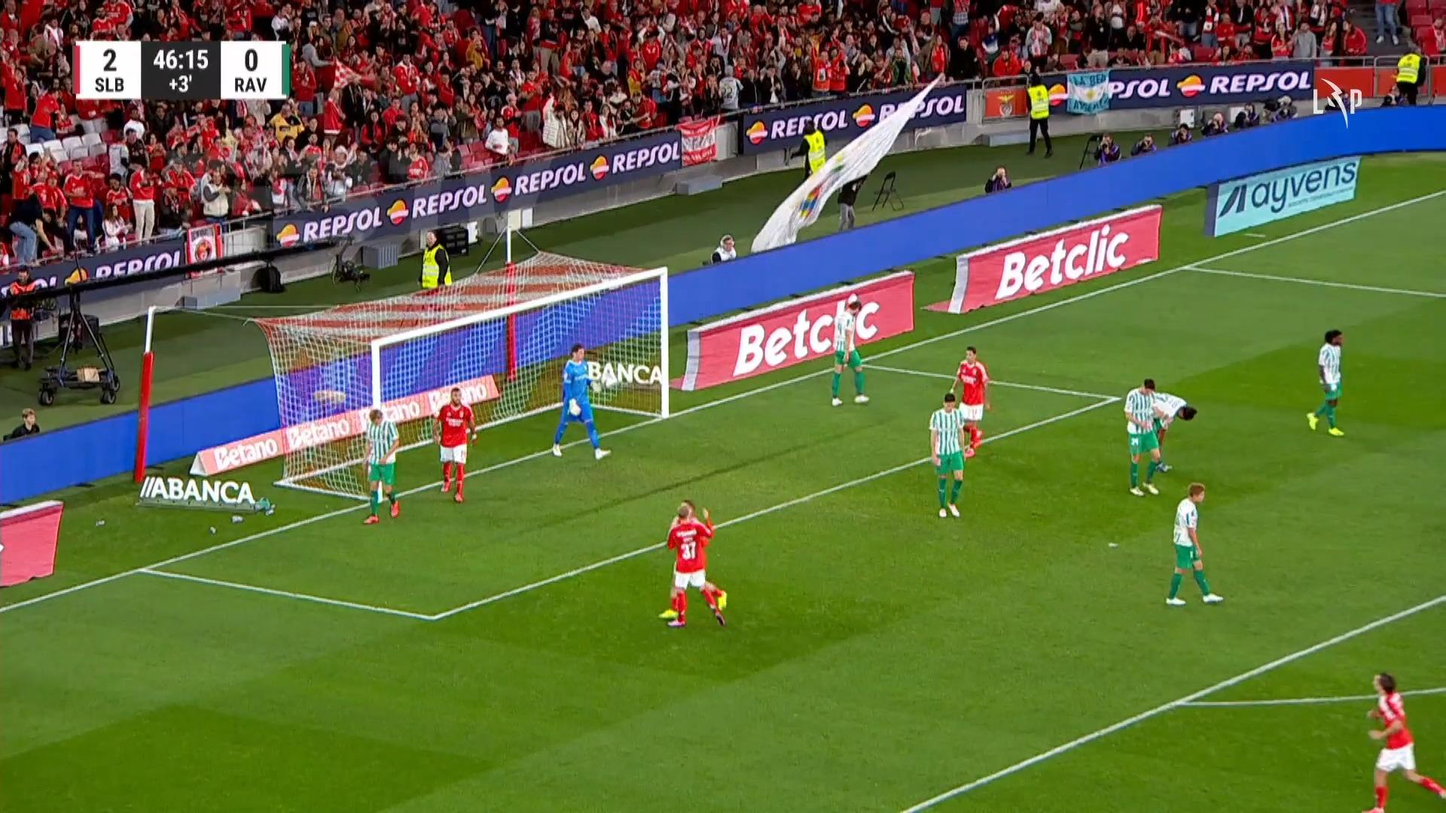goalkeeper: (550, 343, 612, 459)
player: (1360, 671, 1444, 811), (660, 500, 728, 628), (1164, 481, 1224, 605), (1123, 377, 1170, 496), (432, 386, 477, 503), (928, 391, 969, 518), (949, 345, 991, 458), (361, 407, 401, 523), (829, 293, 869, 405), (1305, 328, 1345, 437), (1150, 391, 1197, 472)
